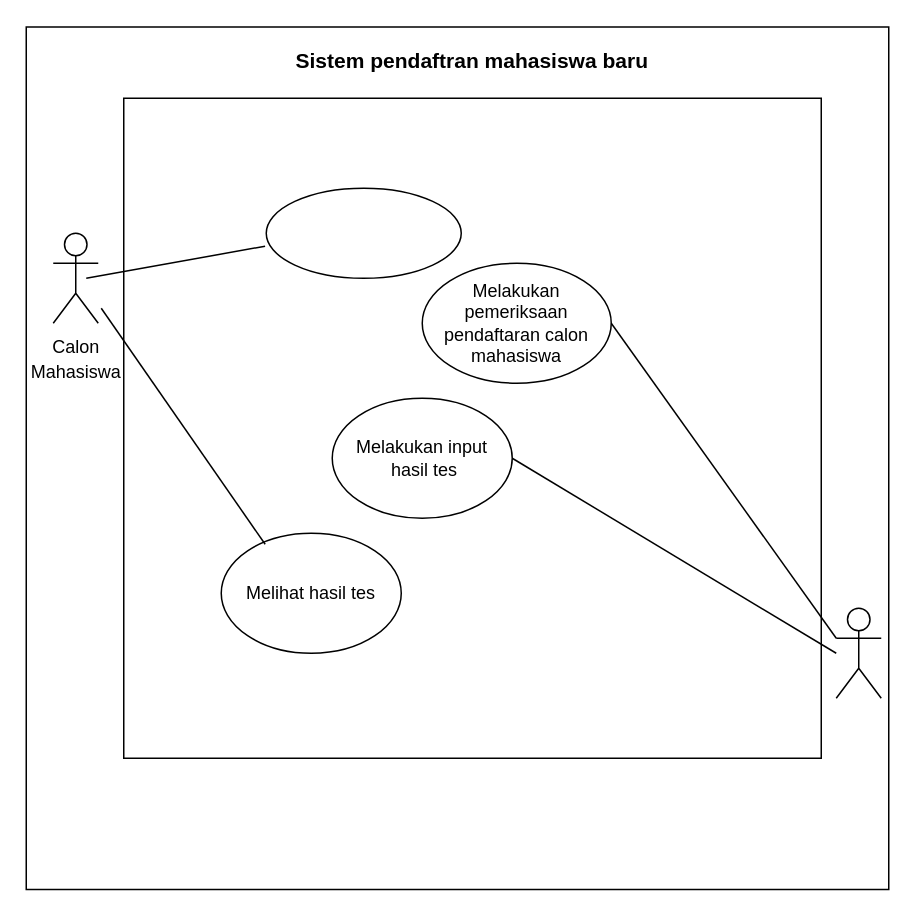
The diagram is 915 pixels wide and 915 high, and some of its shapes have lost their labels. The shapes that lost their labels are listed below. From the top down, each one's centre as x and y in pixels, then its label:
At point (363, 232): "Melakukan pendaftaran".
At point (858, 652): "Staff".
